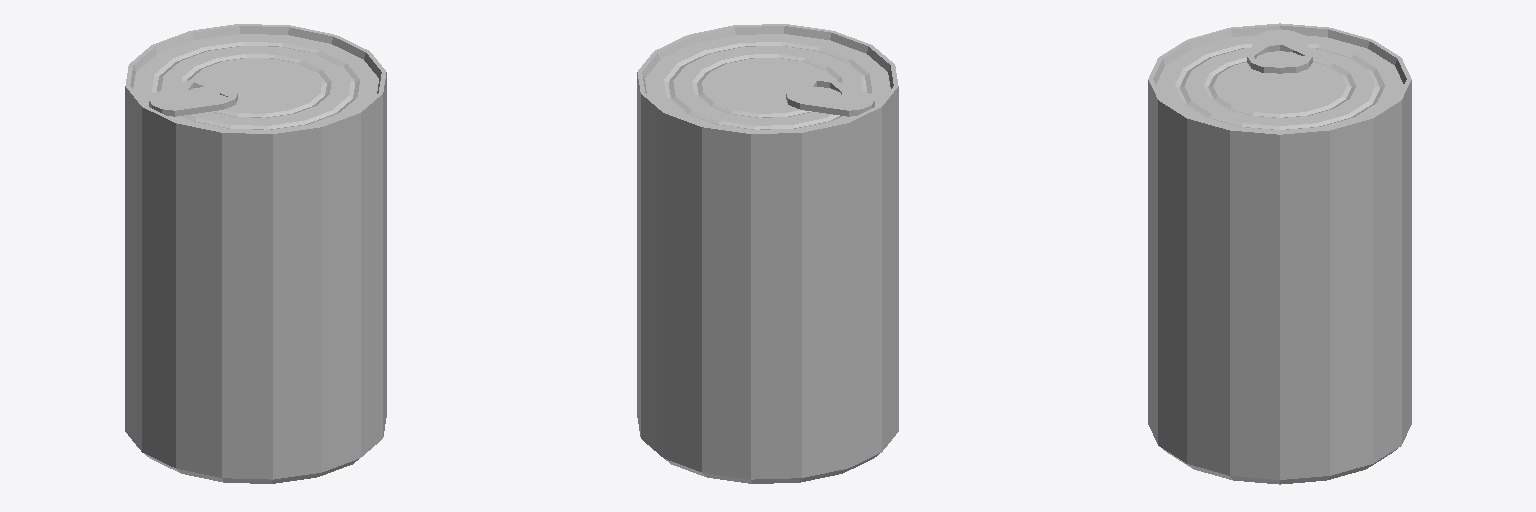
The model's file is canned_food_1.obj.
3 renders of one model, left to right at view 1: azimuth 30°, elevation 25°; view 2: azimuth 150°, elevation 25°; view 3: azimuth 270°, elevation 25°, orthographic.
Parts seen in each view (by area): view 1: canned_food_1; view 2: canned_food_1; view 3: canned_food_1.
Boxes of the visible parts, <box> form: canned_food_1: <box>125,24,386,483</box>; canned_food_1: <box>637,24,898,483</box>; canned_food_1: <box>1148,23,1411,484</box>.
Bounding box in the file's own units: 0.112 × 0.166 × 0.112.